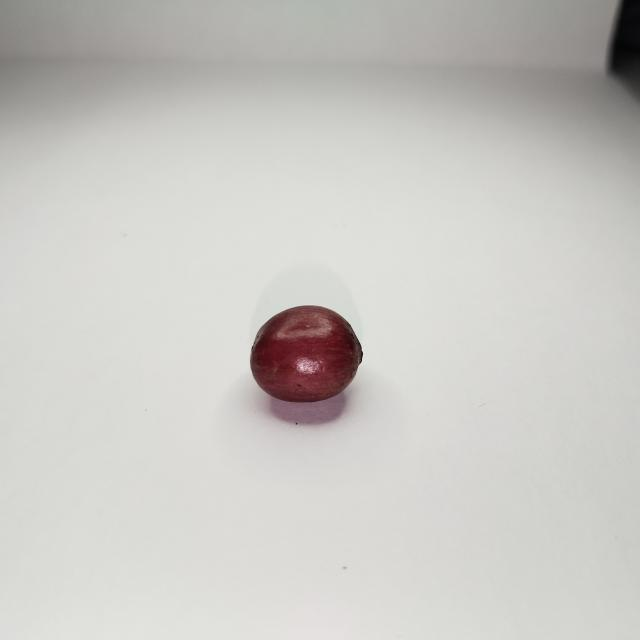Sano: (250, 305, 362, 409)
